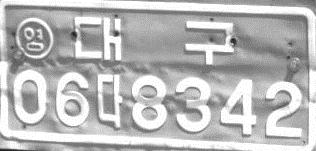0: (12, 67, 47, 127)
2: (265, 80, 304, 139)
3: (173, 76, 212, 133)
4: (219, 78, 257, 135)
6: (54, 69, 89, 127)
8: (130, 73, 168, 131)
다: (96, 72, 124, 129)
대구_D: (74, 14, 237, 66)
영: (15, 16, 54, 59)
